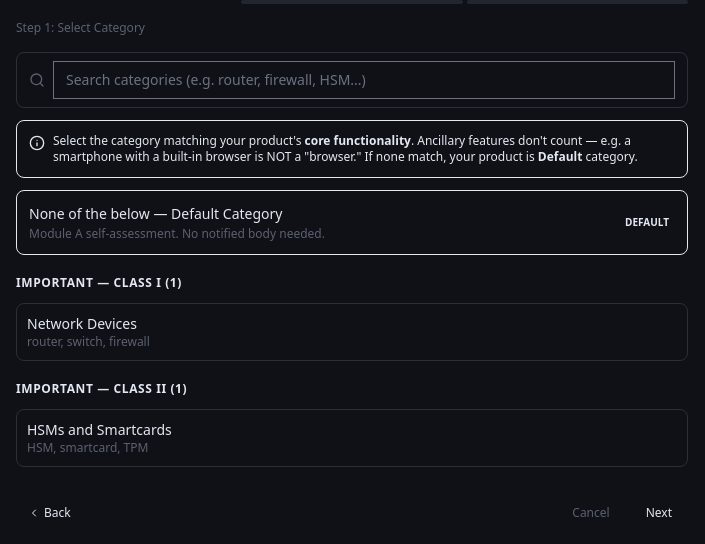
Test: CraClassificationWizard › Back button on step 2 returns to step 1
expect the text "Step 1: Select Category" is shown: met, box [16, 19, 145, 36]
Click the button "Next": (659, 513) [630, 499, 688, 527]
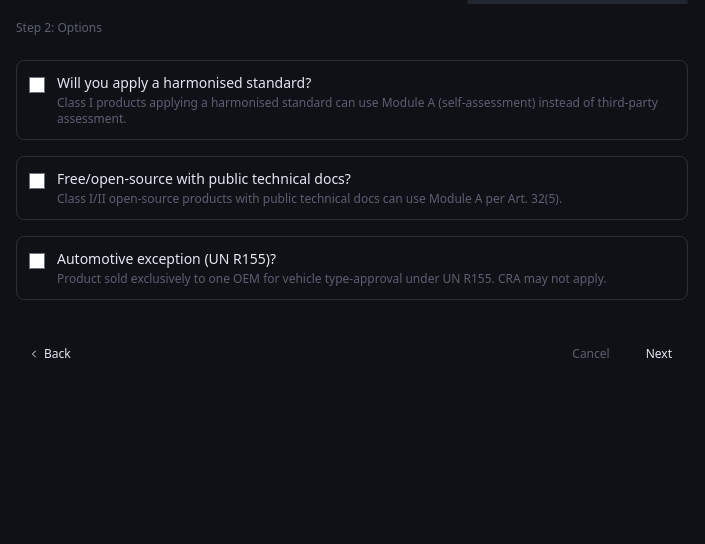
expect the text "Step 2: Options" is shown: met, box [16, 19, 102, 36]
Click the button "Back": (49, 354) [16, 340, 83, 368]
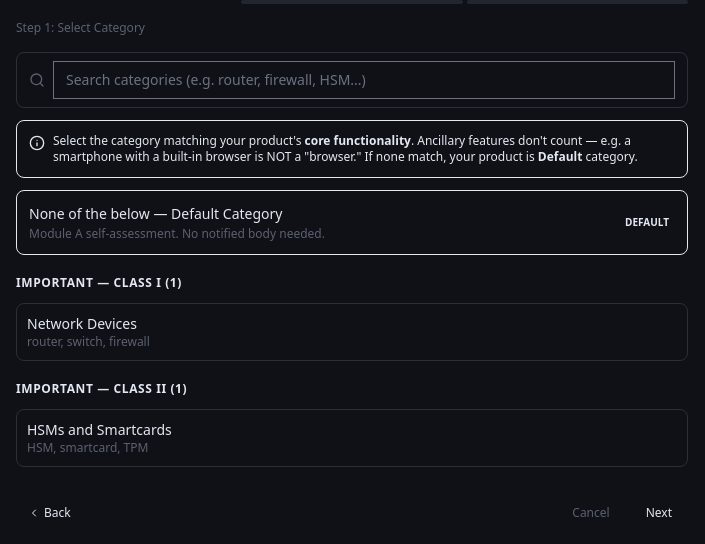
expect the text "Step 1: Select Category" is shown: met, box [16, 19, 145, 36]
